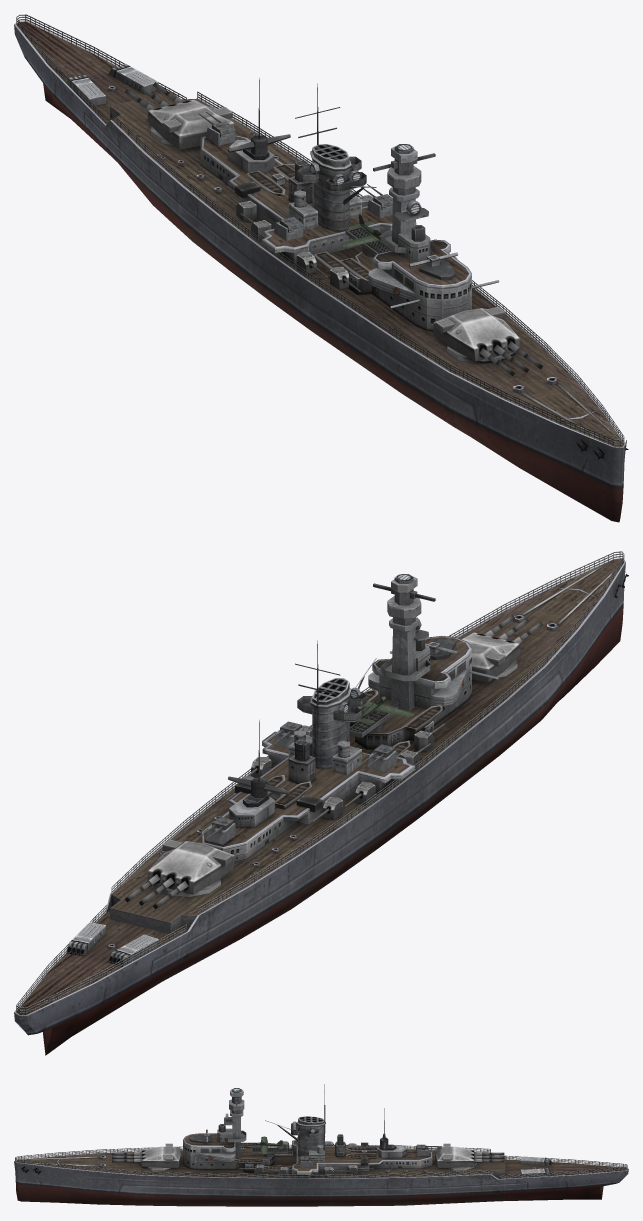
The model's file is Deutschland.fbx.
3 renders of one model, top to bottom at view 1: azimuth 30°, elevation 25°; view 2: azimuth 150°, elevation 25°; view 3: azimuth 270°, elevation 25°, orthographic. The views are drawn at different scales.
Parts seen in each view (by area): view 1: body, fence, Cannon_f_body, Cannon_b_body; view 2: body, fence, Cannon_b_body, Cannon_f_body; view 3: body, fence, Cannon_b_body, Cannon_f_body, Cannon_f_barrel02 (×2), AACannon1, AACannon.
Boxes of the visible parts, x1,y1,x2,y2 form: body: (14, 21, 628, 522); fence: (16, 14, 624, 446); Cannon_f_body: (433, 306, 520, 361); Cannon_b_body: (147, 99, 234, 149); body: (14, 558, 628, 1055); fence: (16, 551, 624, 1014); Cannon_b_body: (147, 839, 234, 894); Cannon_f_body: (461, 632, 520, 682); body: (14, 1084, 628, 1206); fence: (15, 1144, 627, 1178); Cannon_b_body: (435, 1143, 474, 1167); Cannon_f_body: (141, 1143, 181, 1167); Cannon_f_barrel02 (×2): (112, 1152, 504, 1162); AACannon1: (299, 1156, 324, 1167); AACannon: (416, 1144, 441, 1156).
Bounding box in the file's own units: 2513 × 3919 × 18798.
2 materials, 2 textured.
